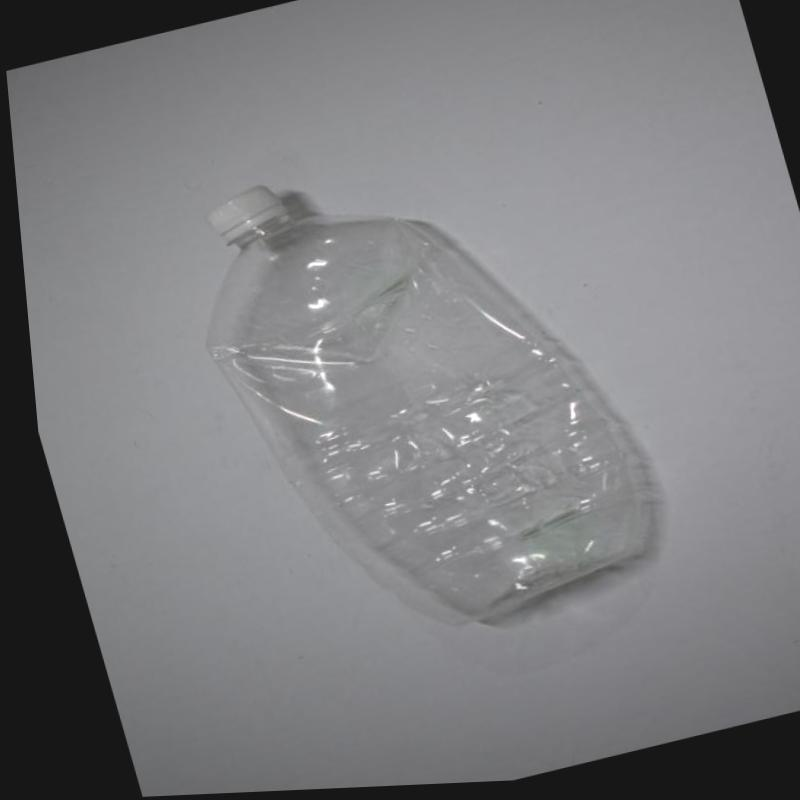botella: (156, 112, 682, 675)
